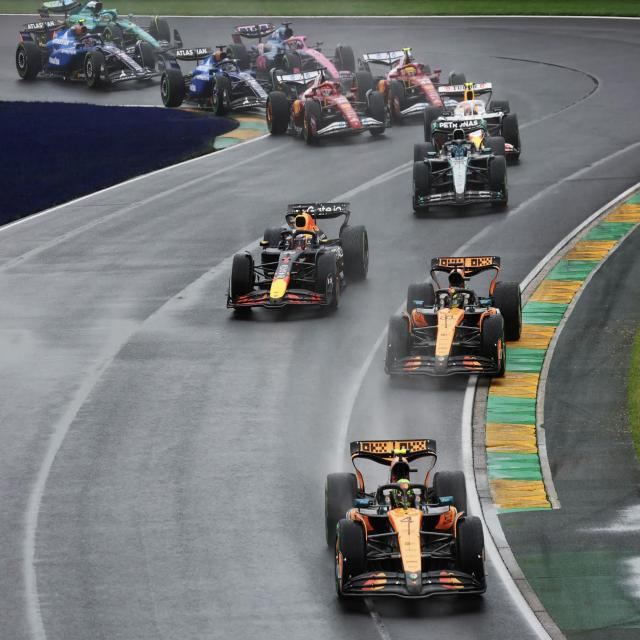Alpine: (224, 20, 365, 91)
Aston Martin: (32, 1, 184, 56)
Ferrari: (267, 66, 392, 149), (352, 46, 466, 122)
McLaren: (324, 437, 489, 613), (384, 255, 523, 387)
Mercedes: (415, 117, 507, 217)
Racing Bulls: (424, 81, 522, 162)
Red Bull: (227, 199, 370, 326)
Williams: (16, 18, 167, 96), (158, 43, 284, 124)
